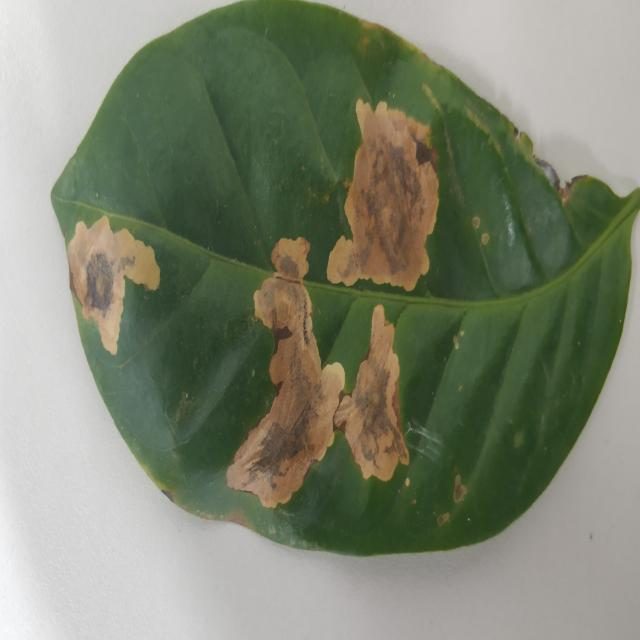Plaga-Minador: (49, 0, 640, 560)
